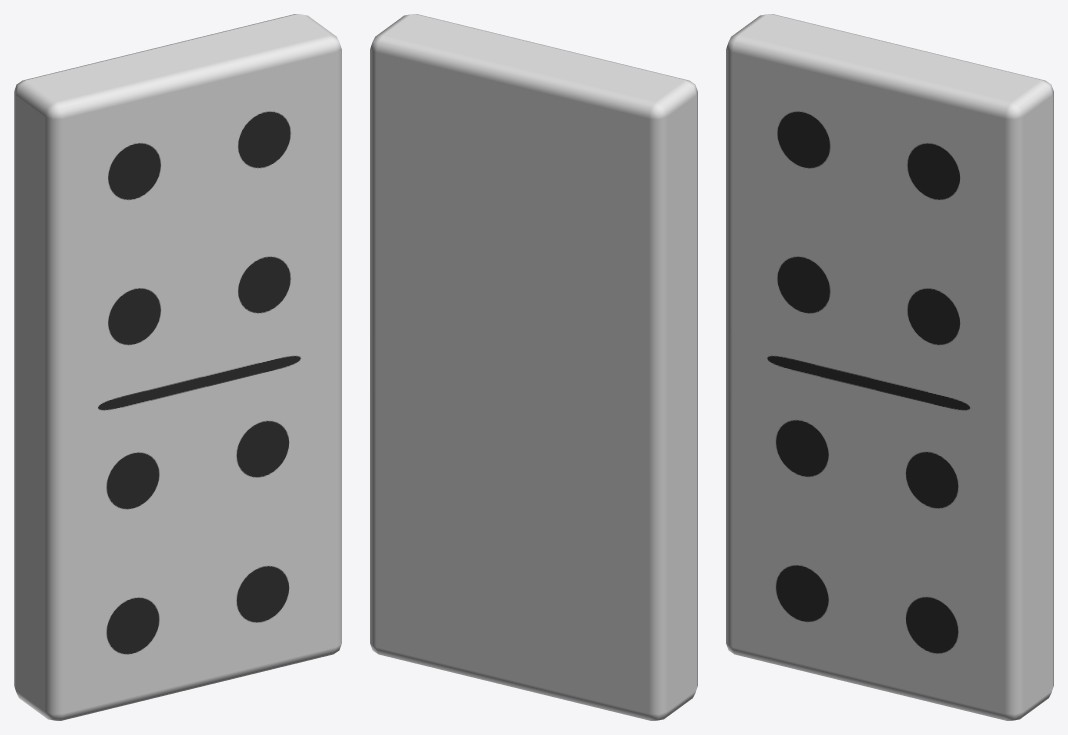
3 renders of one model, left to right at view 1: azimuth 30°, elevation 25°; view 2: azimuth 150°, elevation 25°; view 3: azimuth 330°, elevation 25°, orthographic.
Parts seen in each view (by area): view 1: Low; view 2: Low; view 3: Low.
Part boxes in pixels (x1,y1,x2,y2): Low: (14,14,341,720); Low: (370,14,697,720); Low: (726,14,1053,720).
Size of the model in its own units: 0.0254 by 0.0508 by 0.00635.
Materials: 1 (1 with a texture image).
